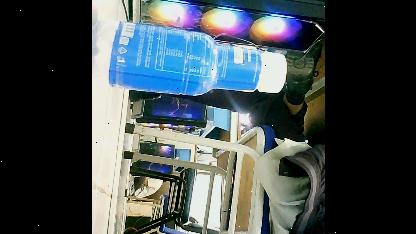Plastic Bottle: (91, 19, 291, 97)
